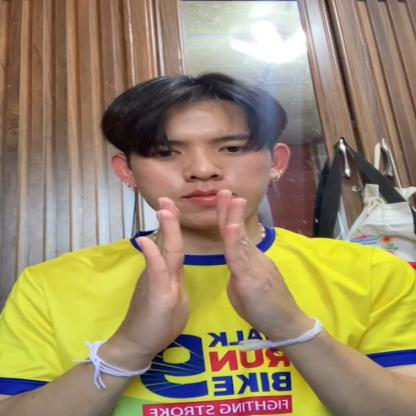Thank you: (117, 193, 323, 342)
